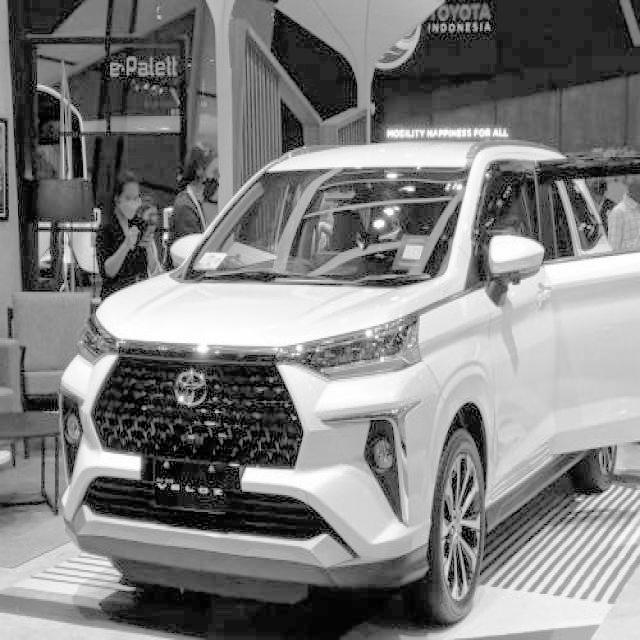Car: (53, 128, 640, 634)
